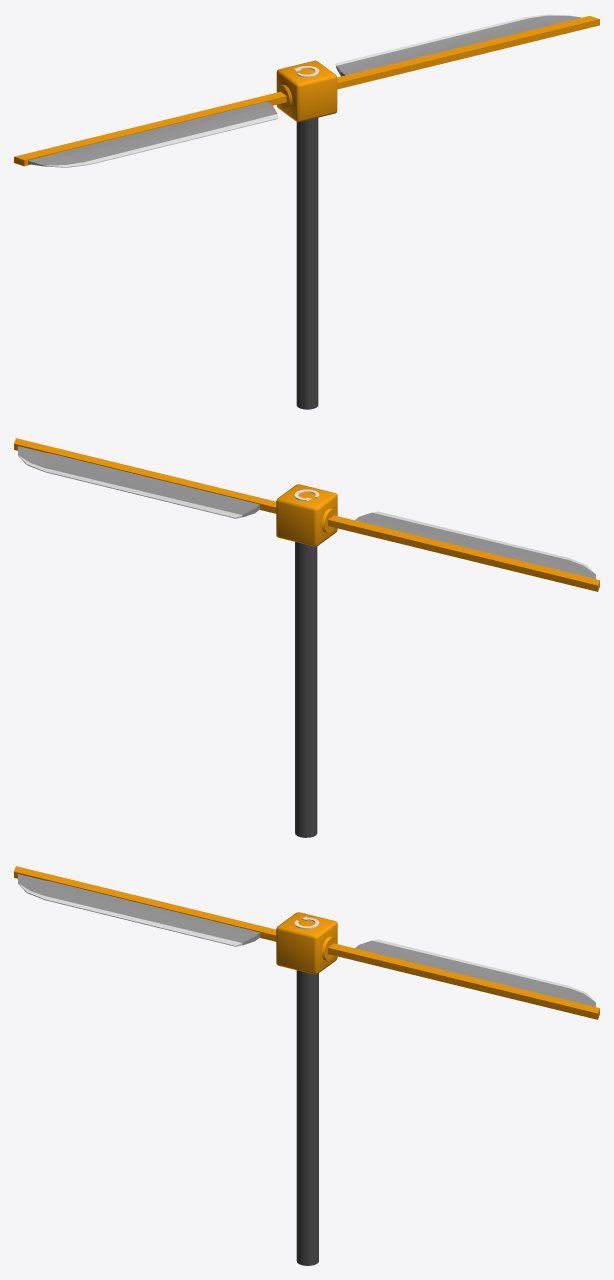
File: trap_11.fbx
The picture shows the model from 3 angles, top to bottom: view 1: azimuth 30°, elevation 25°; view 2: azimuth 150°, elevation 25°; view 3: azimuth 330°, elevation 25°; orthographic projection.
Parts seen in each view (by area): view 1: trap; view 2: trap; view 3: trap.
Part boxes in pixels (x1,y1,x2,y2): trap: (14,14,599,409); trap: (14,438,599,837); trap: (14,866,599,1265).
Size of the model in its own units: 5488 by 3019 by 686.
1 material, 1 textured.
